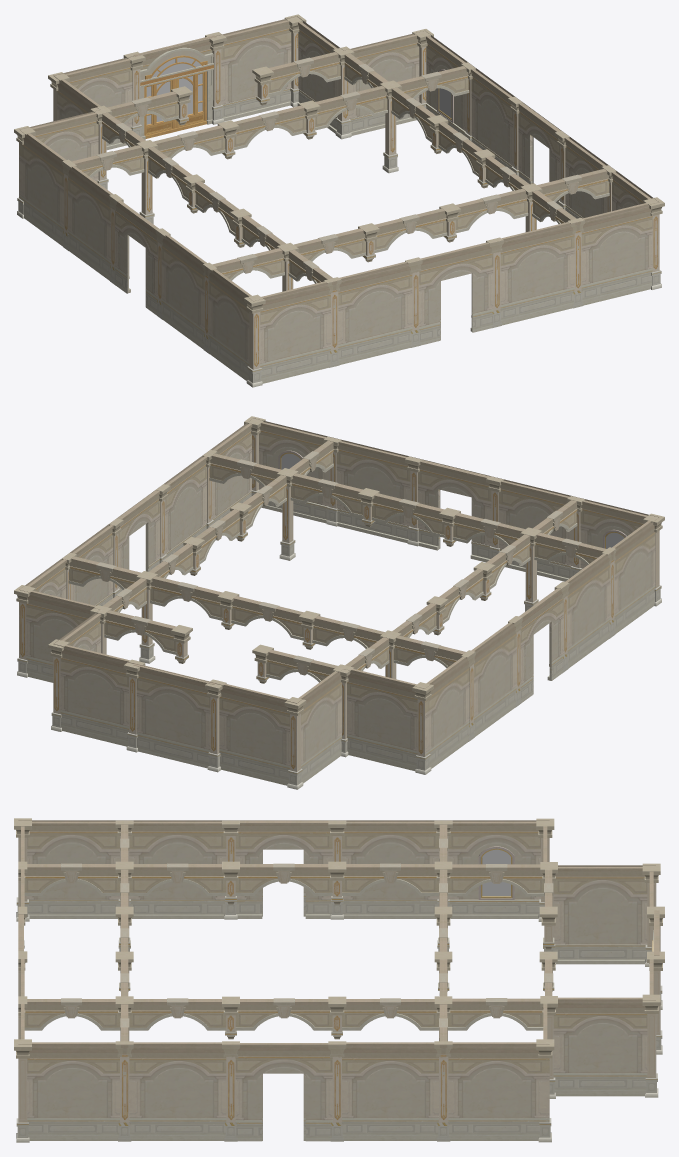
File: Homeworld_Interior_Fd_Room_P_Wall_01_Vo.fbx
3 renders of one model, top to bottom at view 1: azimuth 30°, elevation 25°; view 2: azimuth 150°, elevation 25°; view 3: azimuth 270°, elevation 25°, orthographic. The views are drawn at different scales.
Parts seen in each view (by area): view 1: Homeworld_Interior_Fd_Room_P_Filling_01_Vo, Homeworld_Interior_Fd_Room_Wall_04_Vo (×22), Homeworld_Interior_Fd_Room_Wall_01_Vo (×8), Homeworld_Interior_Fd_Room_Wall_06_Vo (×3), Homeworld_Interior_Fd_Room_Pillar_01_Vo (×10), Homeworld_Interior_Fd_Room_Wall_07_Vo, Homeworld_Interior_Fd_Room_Pillar_02_Vo (×4), Homeworld_Interior_Fd_Room_Wall_02_Vo; view 2: Homeworld_Interior_Fd_Room_P_Filling_01_Vo, Homeworld_Interior_Fd_Room_Wall_04_Vo (×22), Homeworld_Interior_Fd_Room_Wall_01_Vo (×6), Homeworld_Interior_Fd_Room_Pillar_01_Vo (×11), Homeworld_Interior_Fd_Room_Wall_06_Vo (×3), Homeworld_Interior_Fd_Room_Wall_07_Vo, Homeworld_Interior_Fd_Room_Wall_02_Vo (×3), Homeworld_Interior_Fd_Room_Pillar_02_Vo (×3); view 3: Homeworld_Interior_Fd_Room_P_Filling_01_Vo, Homeworld_Interior_Fd_Room_Wall_01_Vo (×4), Homeworld_Interior_Fd_Room_Wall_04_Vo (×10), Homeworld_Interior_Fd_Room_Wall_06_Vo (×2), Homeworld_Interior_Fd_Room_Wall_02_Vo, Homeworld_Interior_Fd_Room_Pillar_01_Vo (×8), Homeworld_Interior_Fd_Room_Pillar_02_Vo (×6), Homeworld_Interior_Fd_Room_Pillar_03_Vo (×5).
Boxes of the visible parts, box(x1,y1,x2,y2) form: Homeworld_Interior_Fd_Room_P_Filling_01_Vo: box(19, 16, 658, 383); Homeworld_Interior_Fd_Room_Wall_04_Vo (×22): box(72, 52, 609, 308); Homeworld_Interior_Fd_Room_Wall_01_Vo (×8): box(20, 20, 650, 218); Homeworld_Interior_Fd_Room_Wall_06_Vo (×3): box(115, 102, 560, 345); Homeworld_Interior_Fd_Room_Pillar_01_Vo (×10): box(90, 14, 664, 387); Homeworld_Interior_Fd_Room_Wall_07_Vo: box(133, 35, 216, 139); Homeworld_Interior_Fd_Room_Pillar_02_Vo (×4): box(323, 217, 584, 367); Homeworld_Interior_Fd_Room_Wall_02_Vo: box(426, 36, 466, 134); Homeworld_Interior_Fd_Room_P_Filling_01_Vo: box(19, 418, 658, 785); Homeworld_Interior_Fd_Room_Wall_04_Vo (×22): box(68, 440, 613, 682); Homeworld_Interior_Fd_Room_Wall_01_Vo (×6): box(61, 423, 572, 652); Homeworld_Interior_Fd_Room_Pillar_01_Vo (×11): box(14, 468, 664, 789); Homeworld_Interior_Fd_Room_Wall_06_Vo (×3): box(117, 460, 563, 702); Homeworld_Interior_Fd_Room_Wall_07_Vo: box(133, 663, 216, 768); Homeworld_Interior_Fd_Room_Wall_02_Vo (×3): box(27, 421, 647, 598); Homeworld_Interior_Fd_Room_Pillar_02_Vo (×3): box(323, 436, 503, 558); Homeworld_Interior_Fd_Room_P_Filling_01_Vo: box(18, 820, 655, 1140); Homeworld_Interior_Fd_Room_Wall_01_Vo (×4): box(27, 821, 647, 964); Homeworld_Interior_Fd_Room_Wall_04_Vo (×10): box(24, 863, 544, 1030); Homeworld_Interior_Fd_Room_Wall_06_Vo (×2): box(235, 820, 332, 1141); Homeworld_Interior_Fd_Room_Wall_02_Vo: box(448, 821, 540, 918); Homeworld_Interior_Fd_Room_Pillar_01_Vo (×8): box(14, 818, 664, 1142); Homeworld_Interior_Fd_Room_Pillar_02_Vo (×6): box(115, 820, 452, 1141); Homeworld_Interior_Fd_Room_Pillar_03_Vo (×5): box(222, 861, 557, 1039).
Size of what is drawn, in the model's own units: 25.45 by 5.03 by 30.63.
